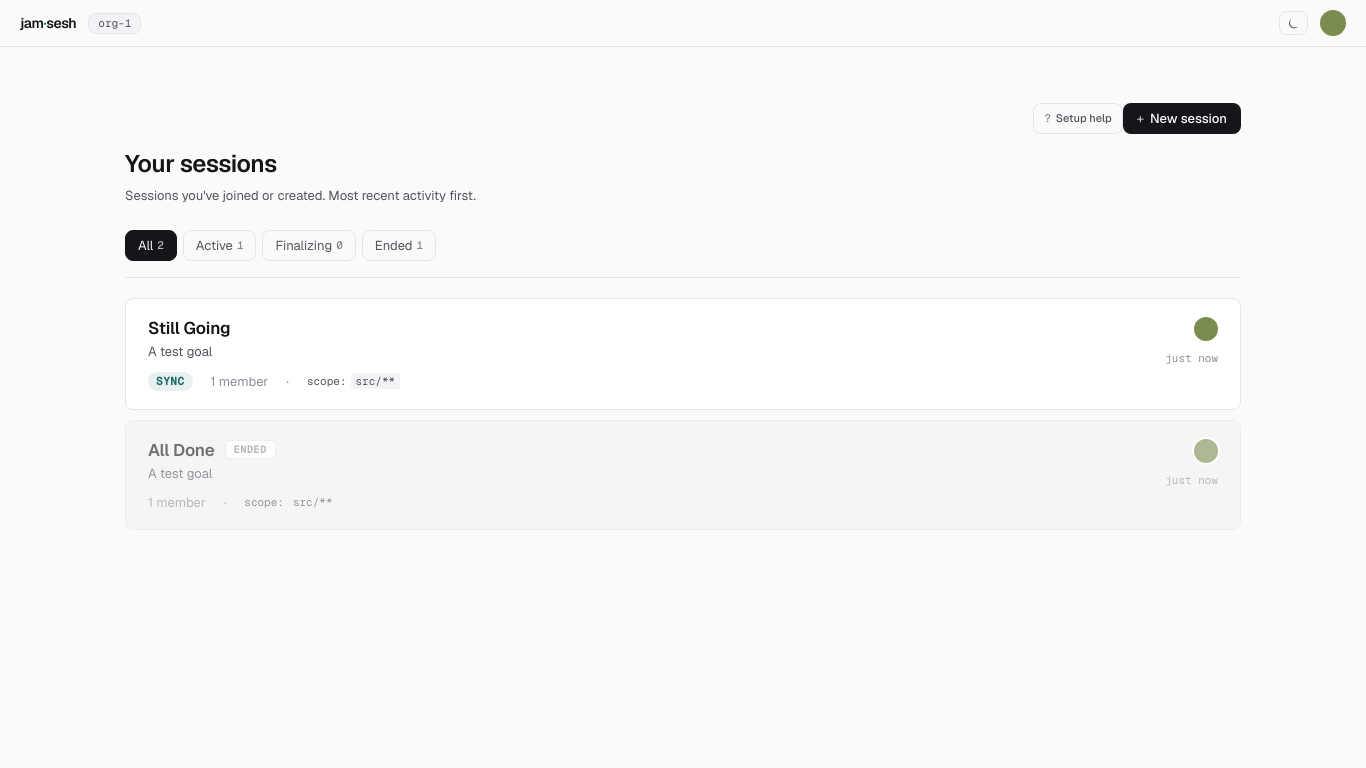
SessionList › shows "ended" filter only ended sessions
The width and height of the screenshot is (1366, 768).
Expected: the heading "Still Going" is shown, [148,316,230,338]
Step 1. Click the button "Ended 1" → x=399, y=245, box [362,230,436,260]
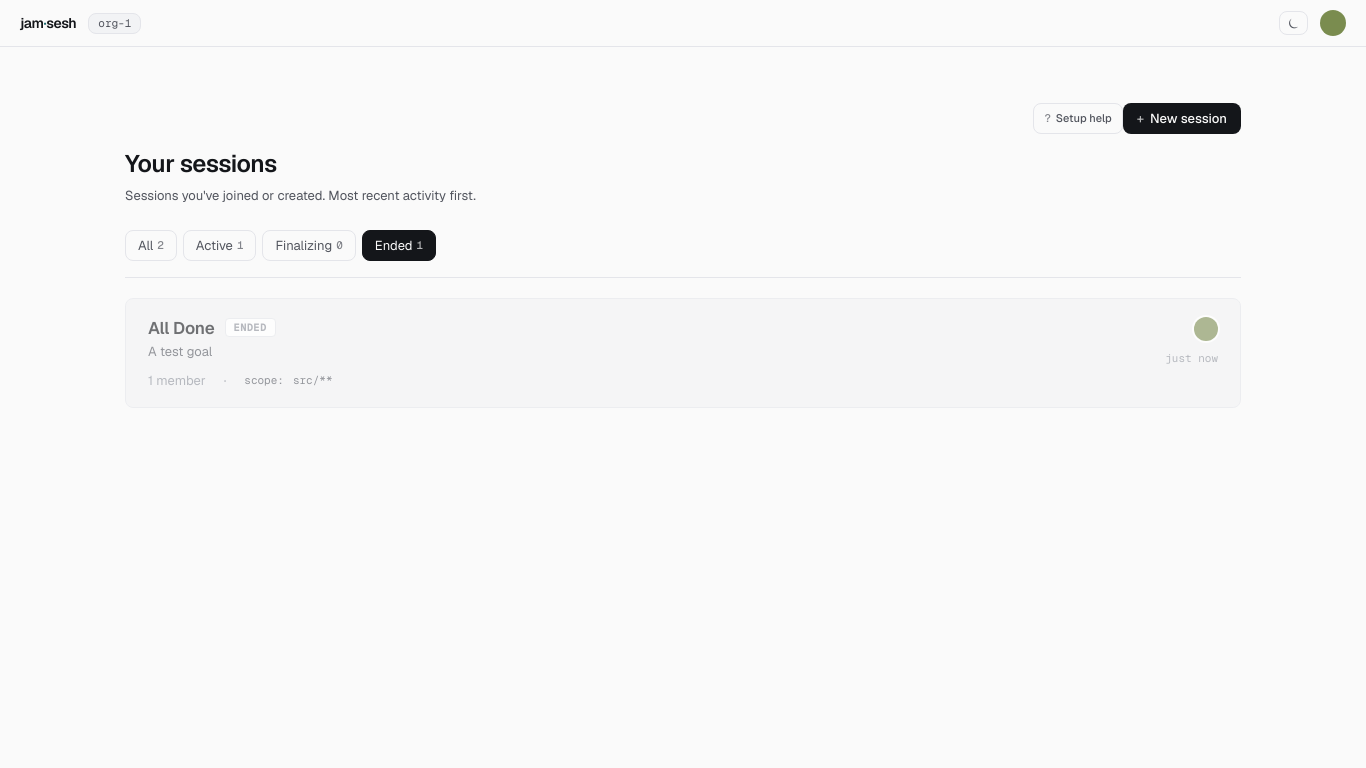
Expected: the heading "All Done ended" is shown, [148,316,276,338]
Now the button "Still Going" is gone
